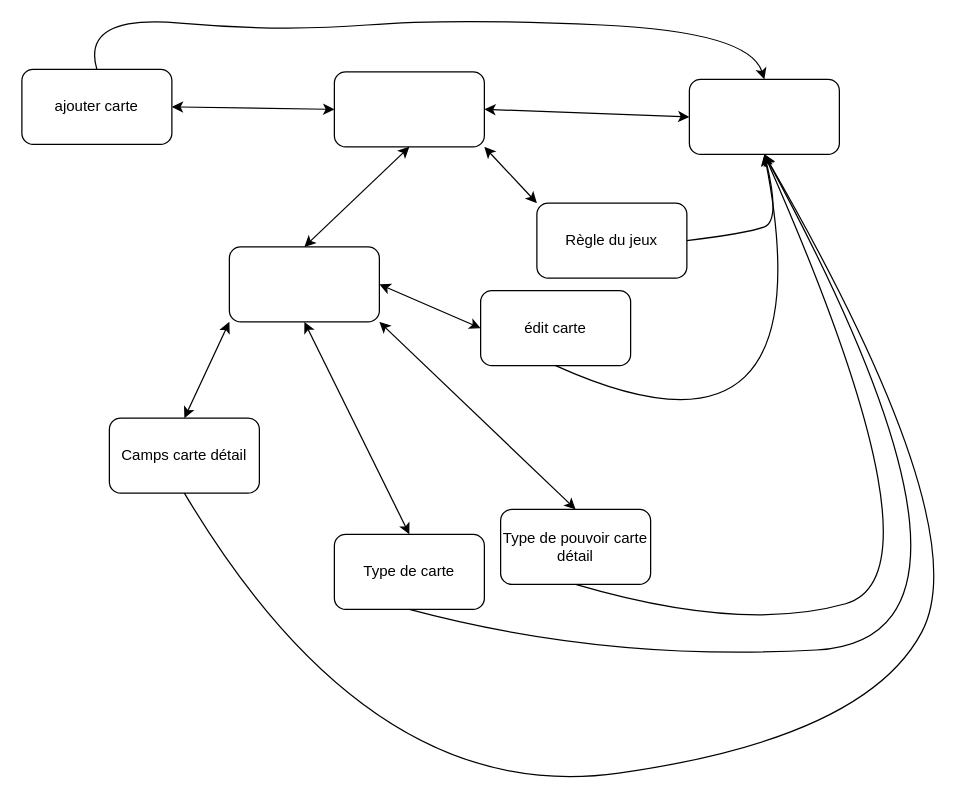
Image size: 956x800. Some labels were removed from this diagram. The shapes that lost their labels are listed below. From the top down, each one's centre as x and y in pixels, then its label:
At (x=408, y=109): "Page d'accueil liste des cartes".
At (x=763, y=116): "Login".
At (x=303, y=284): "Cartes détails".
